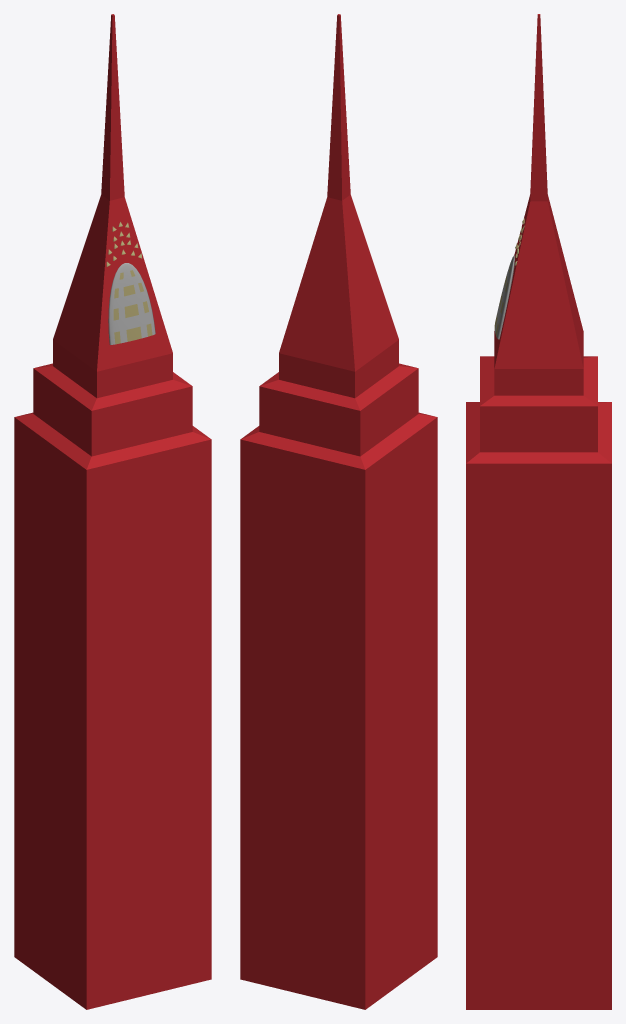
The model's file is crystler.fbx.
3 views of the same model, side by side, from view 1: azimuth 30°, elevation 25°; view 2: azimuth 150°, elevation 25°; view 3: azimuth 270°, elevation 25° (orthographic).
Parts seen in each view (by area): view 1: pCube25, pSphere8; view 2: pCube25; view 3: pCube25, pSphere8.
Part boxes in pixels (x1,y1,x2,y2): pCube25: (14, 14, 211, 1009); pSphere8: (108, 263, 155, 344); pCube25: (240, 14, 437, 1009); pCube25: (466, 14, 611, 1009); pSphere8: (494, 256, 514, 339).
Size of the model in its own units: 0.4057 by 2.96 by 0.4057.
